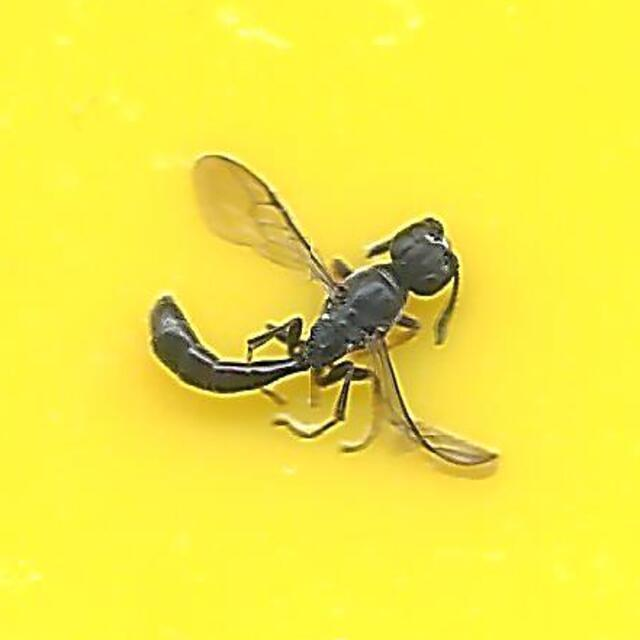Hymenoptera: (145, 160, 495, 480)
